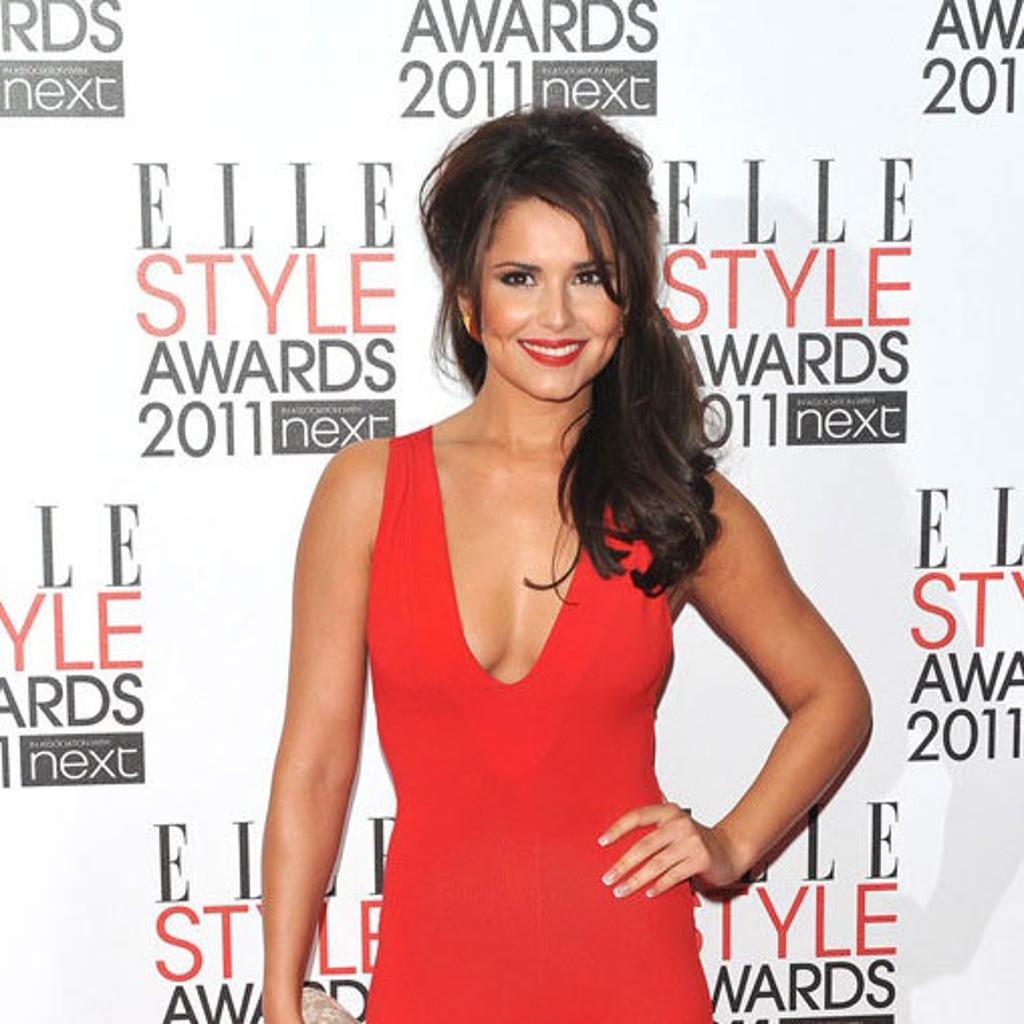face: (476, 188, 626, 402)
